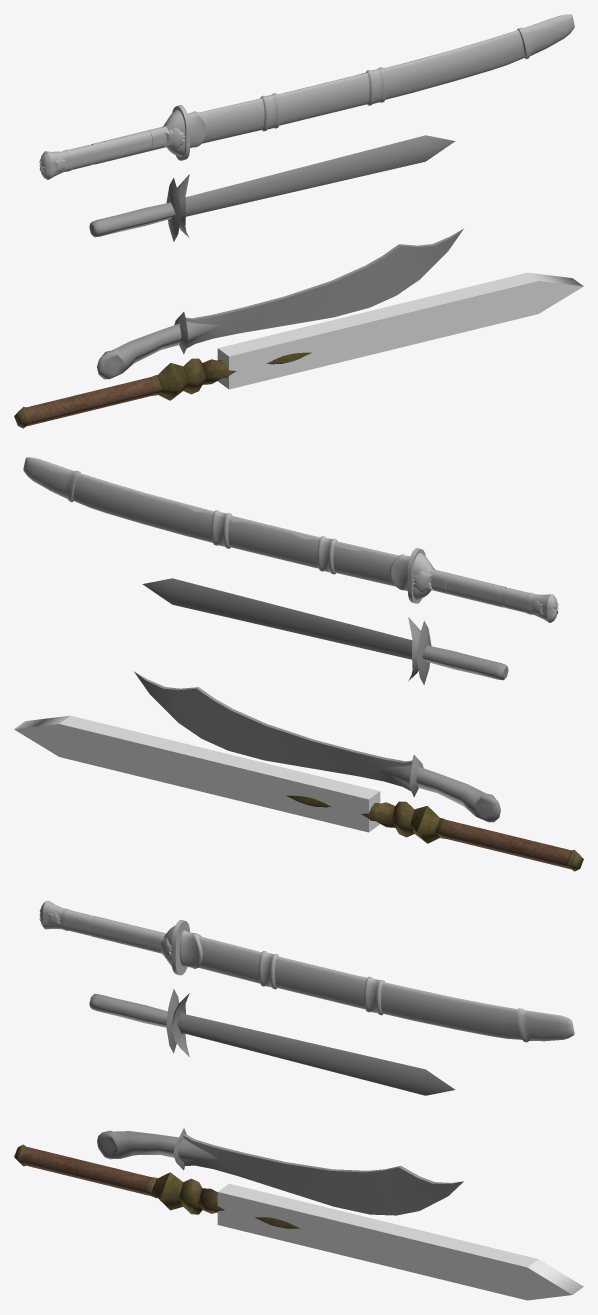
Rendered from Mesh_Weapon_2_1.FBX.
3 views of the same model, one above another, from view 1: azimuth 30°, elevation 25°; view 2: azimuth 150°, elevation 25°; view 3: azimuth 330°, elevation 25° (orthographic).
Parts seen in each view (by area): view 1: Mesh_Sheath_7_0_R, Mesh_Sheath_2_1, Mesh_Wepaon_2_0_R, Mesh_Wepaon_1_0_R, Mesh_Wepaon_7_0_R, Mesh_Weapon_2_1; view 2: Mesh_Sheath_7_0_R, Mesh_Sheath_2_1, Mesh_Wepaon_2_0_R, Mesh_Wepaon_1_0_R, Mesh_Wepaon_7_0_R, Mesh_Weapon_2_1; view 3: Mesh_Sheath_7_0_R, Mesh_Sheath_2_1, Mesh_Wepaon_2_0_R, Mesh_Wepaon_1_0_R, Mesh_Wepaon_7_0_R, Mesh_Weapon_2_1.
Boxes of the visible parts, x1,y1,x2,y2 form: Mesh_Sheath_7_0_R: [217, 272, 583, 389]; Mesh_Sheath_2_1: [188, 14, 574, 147]; Mesh_Wepaon_2_0_R: [97, 228, 463, 379]; Mesh_Wepaon_1_0_R: [89, 135, 455, 241]; Mesh_Wepaon_7_0_R: [14, 352, 311, 428]; Mesh_Weapon_2_1: [39, 72, 365, 179]; Mesh_Sheath_7_0_R: [14, 715, 380, 832]; Mesh_Sheath_2_1: [23, 457, 409, 590]; Mesh_Wepaon_2_0_R: [134, 671, 500, 822]; Mesh_Wepaon_1_0_R: [142, 578, 508, 684]; Mesh_Wepaon_7_0_R: [286, 795, 583, 871]; Mesh_Weapon_2_1: [185, 506, 558, 622]; Mesh_Sheath_7_0_R: [217, 1183, 583, 1300]; Mesh_Sheath_2_1: [179, 930, 574, 1042]; Mesh_Wepaon_2_0_R: [97, 1128, 463, 1215]; Mesh_Wepaon_1_0_R: [89, 989, 455, 1095]; Mesh_Wepaon_7_0_R: [14, 1144, 299, 1228]; Mesh_Weapon_2_1: [39, 900, 366, 977].
Bounding box in the file's own units: 155 × 77.16 × 10.21.
